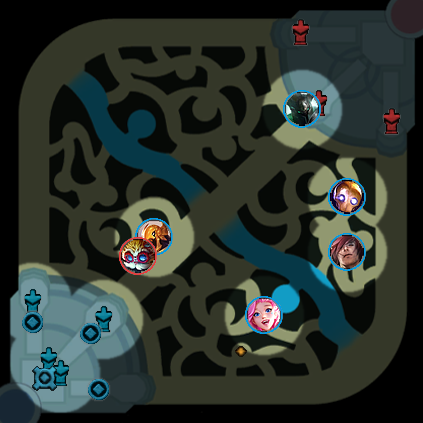Azir: (135, 218, 173, 256)
Blitzcrank: (328, 178, 366, 216)
Heimerdinger: (119, 237, 157, 275)
Mordekaiser: (283, 90, 321, 128)
Seraphine: (245, 296, 283, 334)
Sett: (328, 233, 366, 271)
